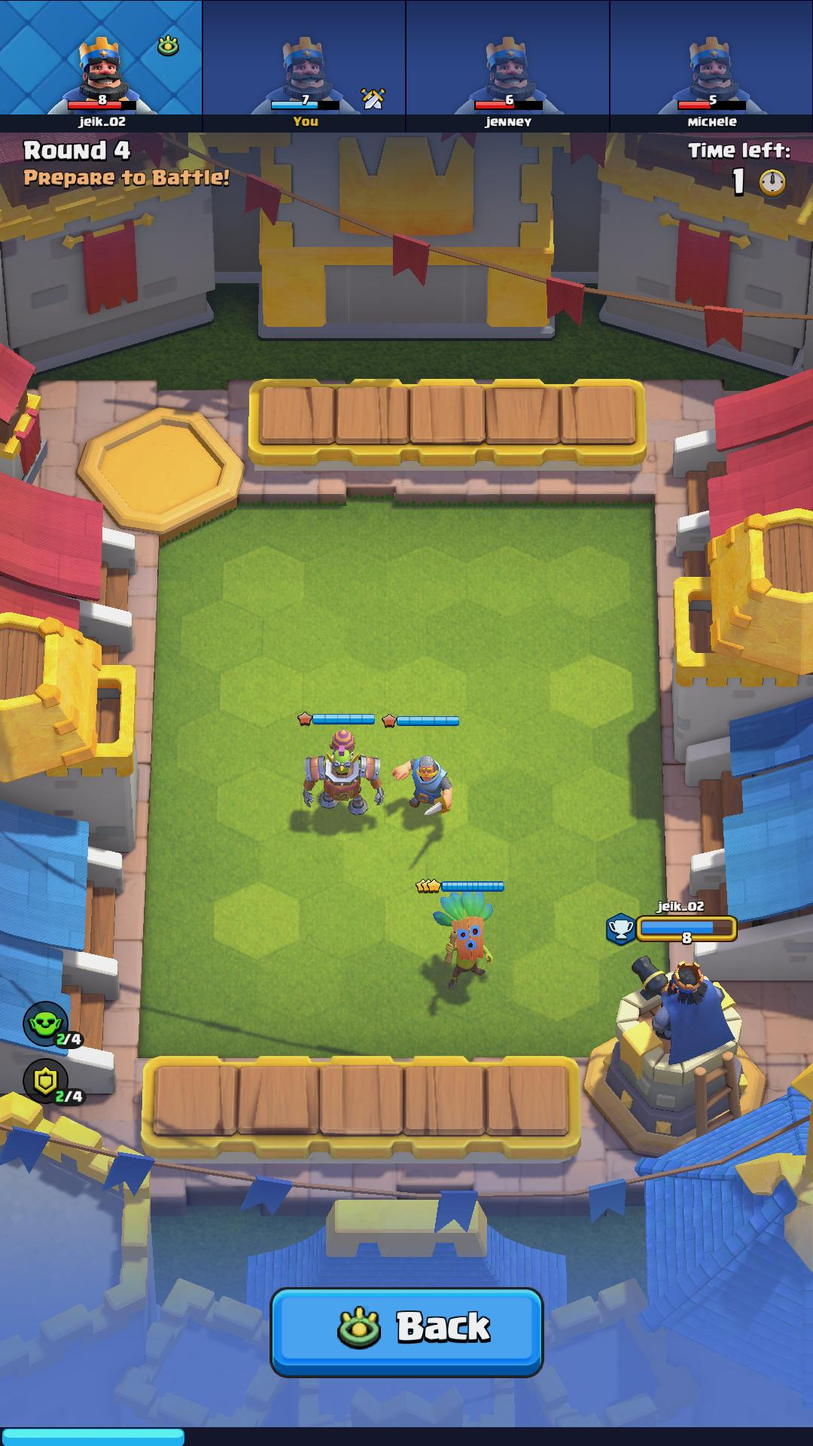dart: (422, 887, 502, 982)
knight: (384, 741, 457, 825)
machine: (295, 726, 388, 823)
